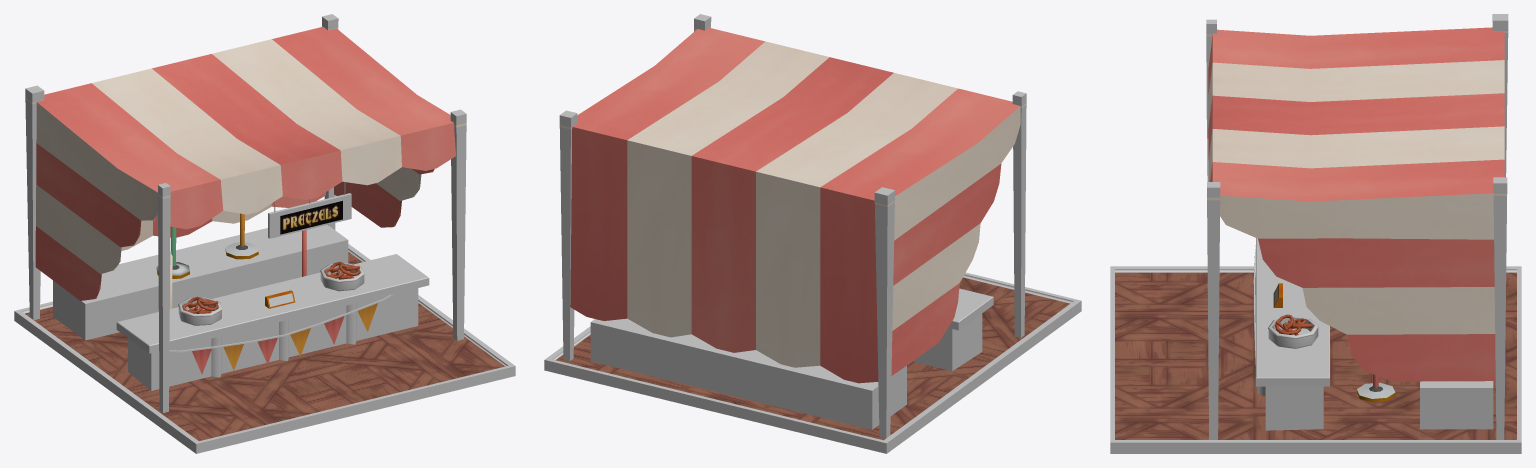
The model's file is Booth_Pretzelgame_Art.fbx.
3 views of the same model, side by side, from view 1: azimuth 30°, elevation 25°; view 2: azimuth 150°, elevation 25°; view 3: azimuth 270°, elevation 25° (orthographic). The views are drawn at different scales.
Visible parts, largest first — view 1: Oktoberfest_Booth_Pretzelgame; view 2: Oktoberfest_Booth_Pretzelgame; view 3: Oktoberfest_Booth_Pretzelgame.
Boxes of the visible parts, x1,y1,x2,y2 form: Oktoberfest_Booth_Pretzelgame: (14, 14, 515, 453); Oktoberfest_Booth_Pretzelgame: (544, 14, 1081, 453); Oktoberfest_Booth_Pretzelgame: (1110, 14, 1521, 453).
Bounding box in the file's own units: 660 × 465 × 651.
